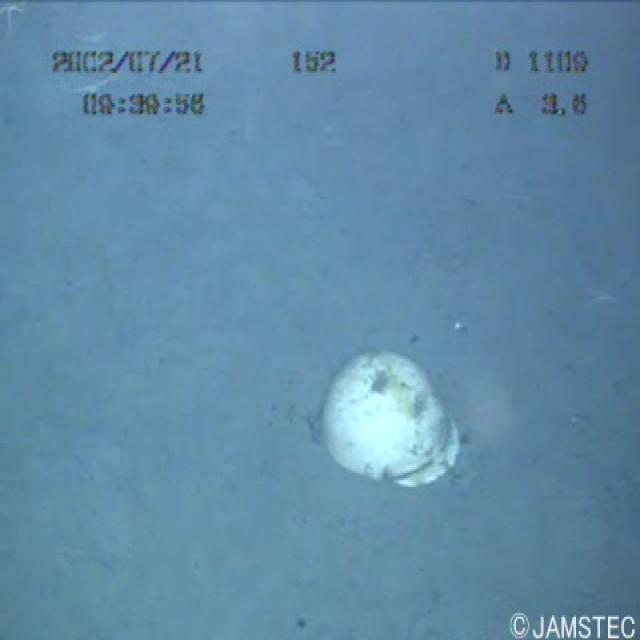plastic: (271, 331, 488, 501)
